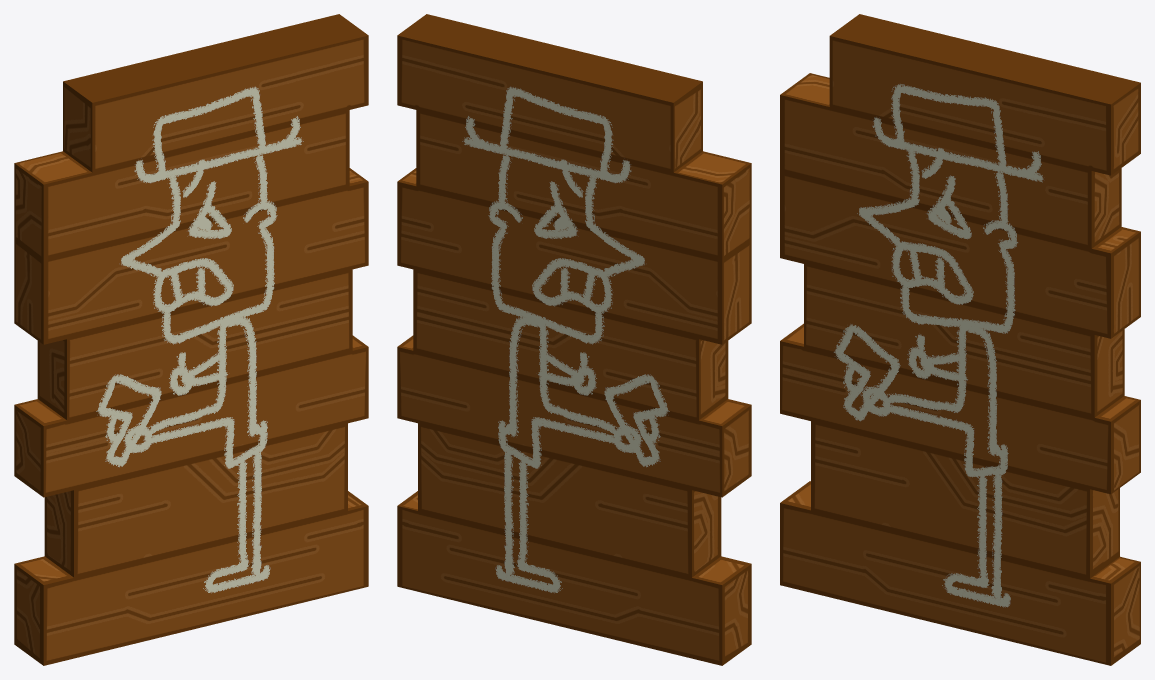
Rendered from Bandit_Block.fbx.
3 views of the same model, side by side, from view 1: azimuth 30°, elevation 25°; view 2: azimuth 150°, elevation 25°; view 3: azimuth 330°, elevation 25° (orthographic).
Parts seen in each view (by area): view 1: Wooden_Backing; view 2: Wooden_Backing; view 3: Wooden_Backing.
Part boxes in pixels (<box>): Wooden_Backing: <box>14,14,368,665</box>; Wooden_Backing: <box>397,14,751,665</box>; Wooden_Backing: <box>780,14,1140,665</box>.
Size of the model in its own units: 106 by 172 by 16.63.
1 material, 1 textured.
